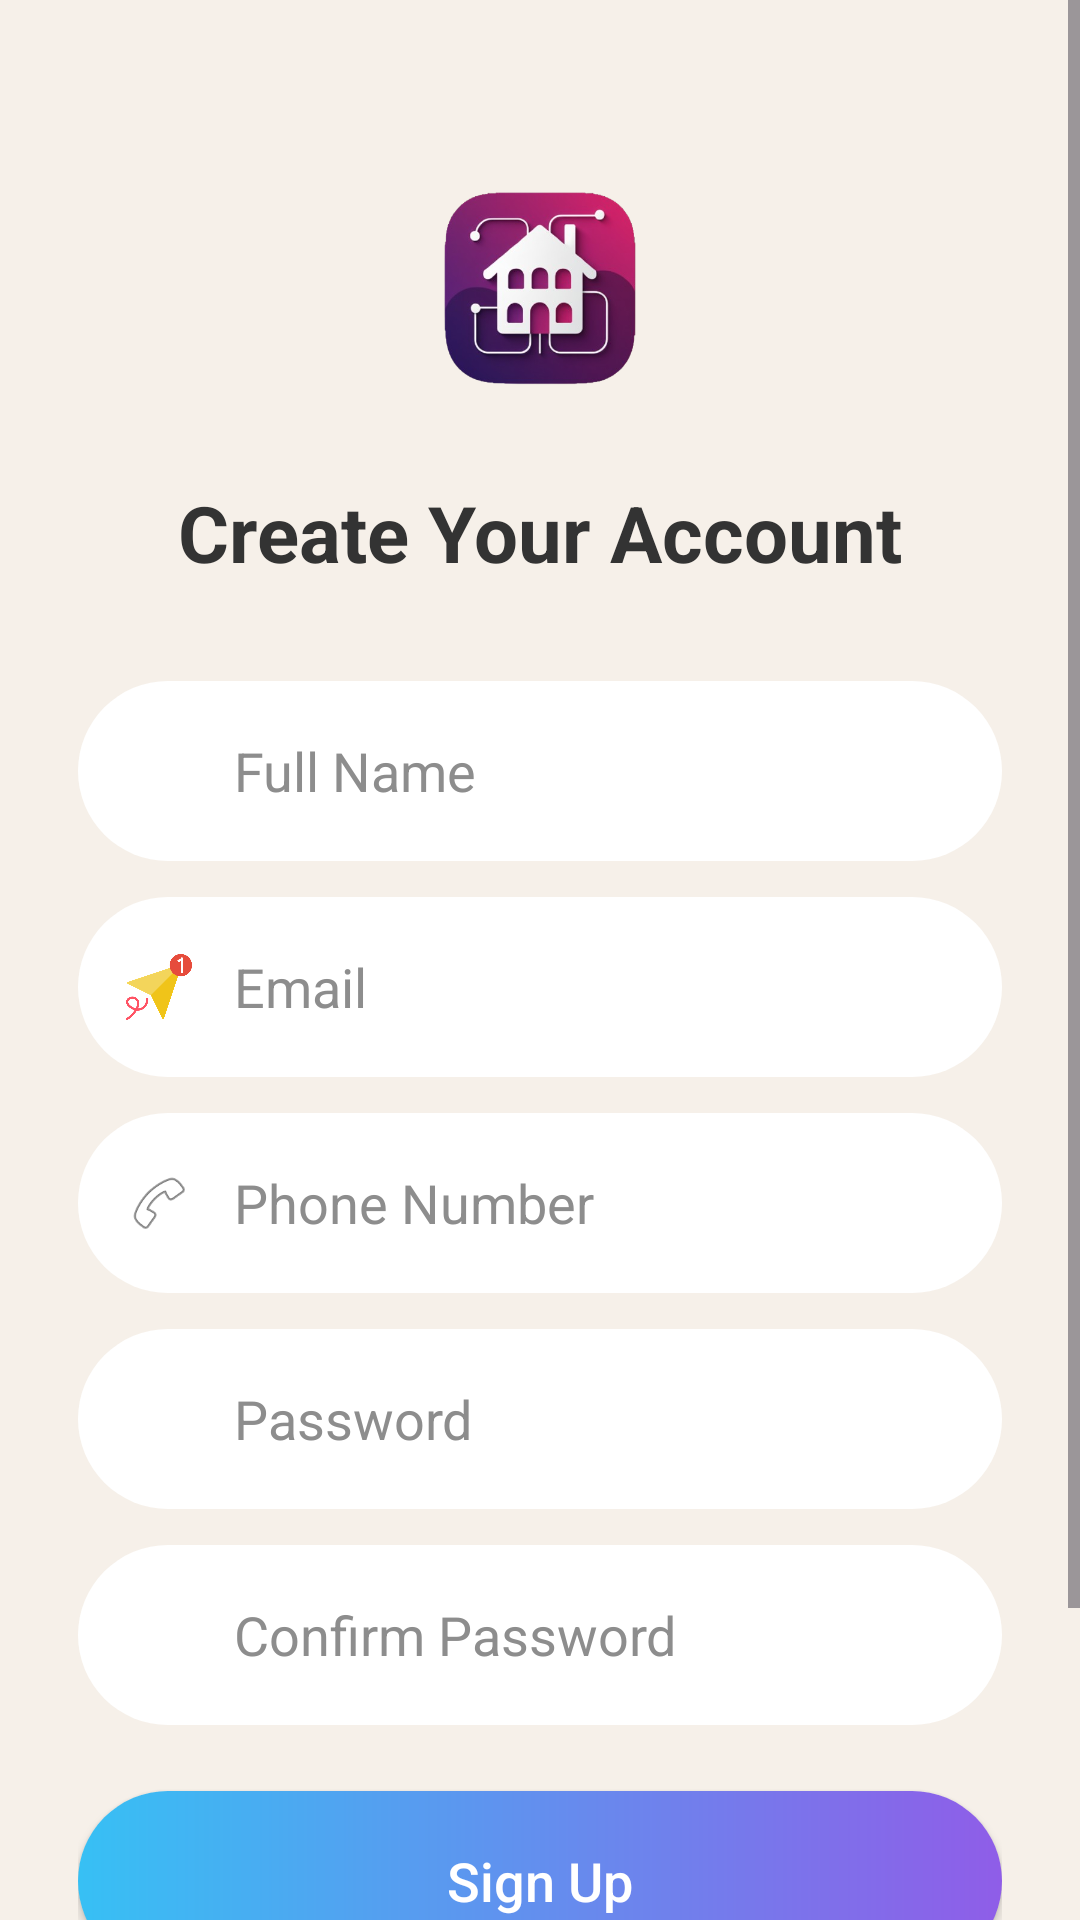

Screen size 1080x1920. Icon name, then its center in pixels as point (x, y):
call: point (159, 1203)
message: point (159, 987)
